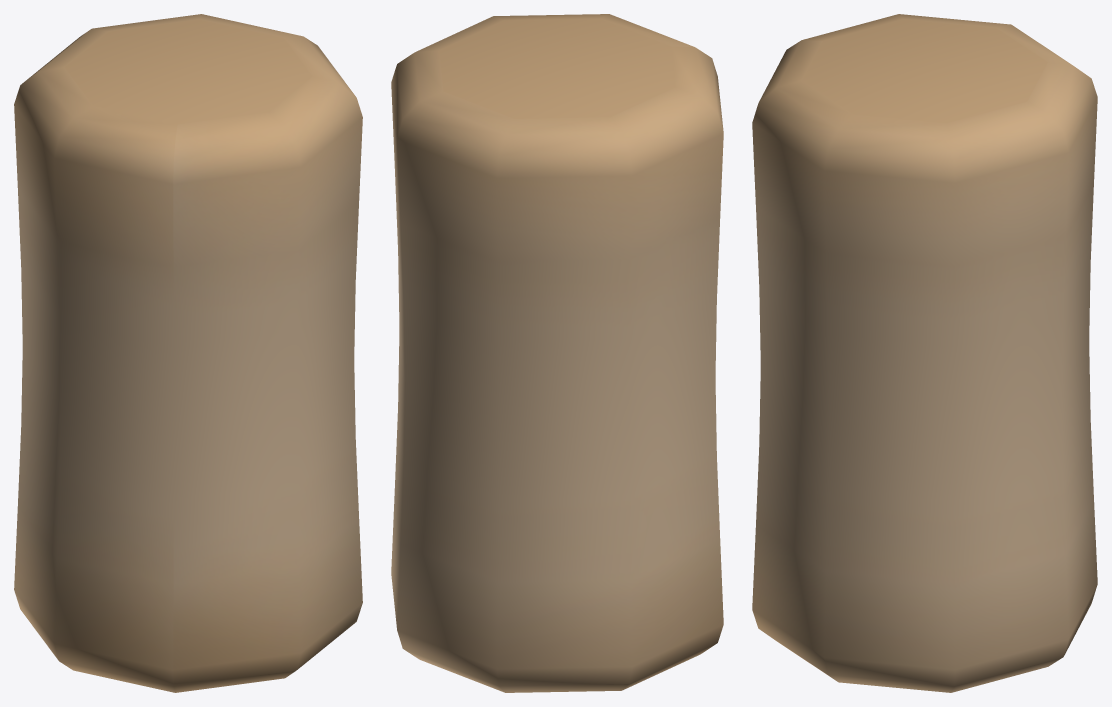
Rendered from Wood_02.fbx.
3 renders of one model, left to right at view 1: azimuth 30°, elevation 25°; view 2: azimuth 150°, elevation 25°; view 3: azimuth 270°, elevation 25°, orthographic.
Visible parts, largest first — view 1: 柱体.021; view 2: 柱体.021; view 3: 柱体.021.
Part boxes in pixels (left/top/right/bottom): 柱体.021: left=14, top=14, right=362, bottom=692; 柱体.021: left=391, top=14, right=723, bottom=692; 柱体.021: left=752, top=14, right=1097, bottom=692.
Size of the model in its own units: 24.95 by 44.95 by 24.95.
